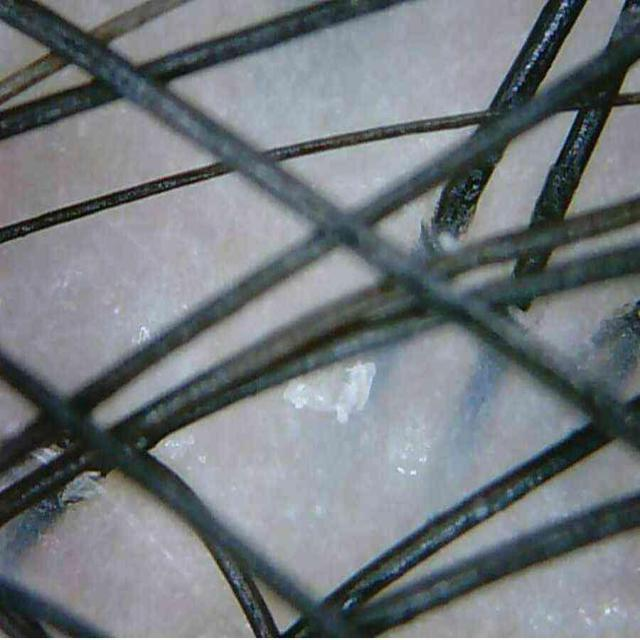d: (282, 360, 376, 422)
